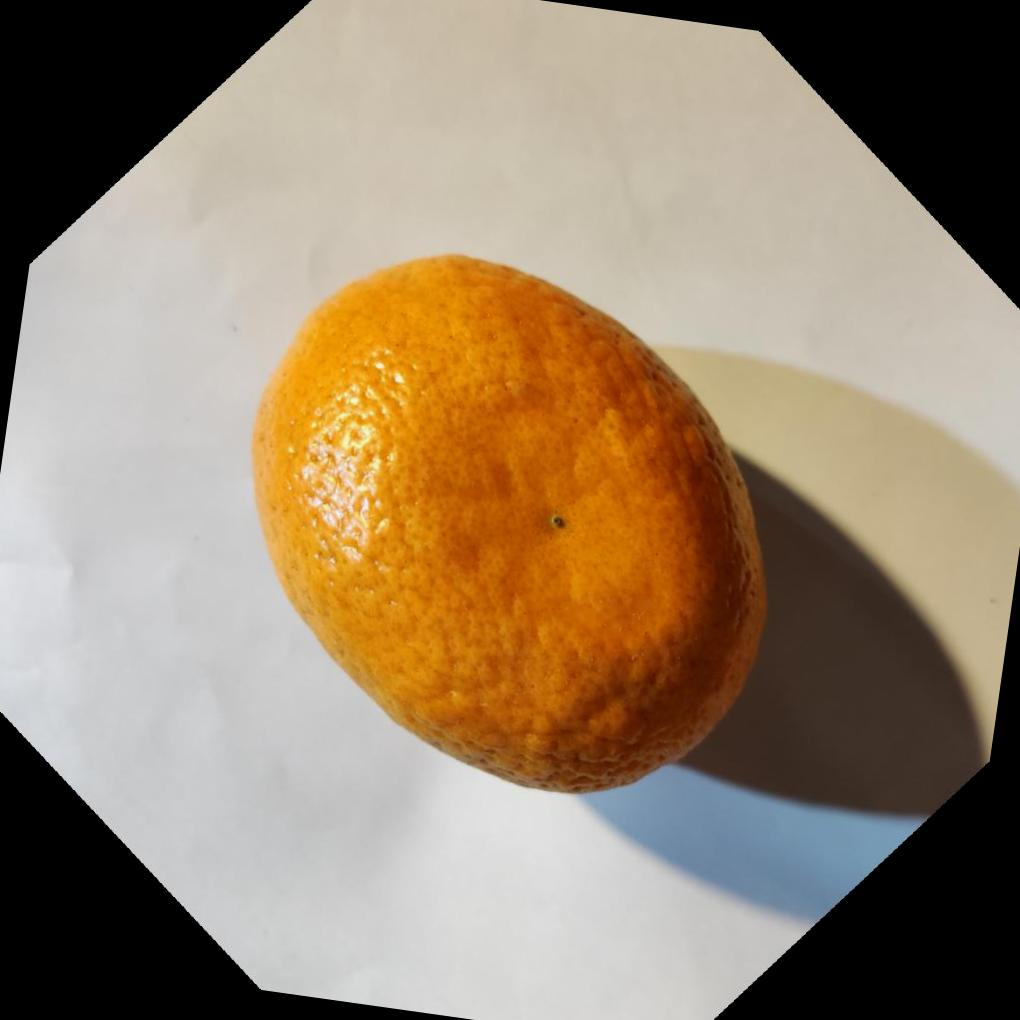FreshGuava: (251, 252, 772, 797)
